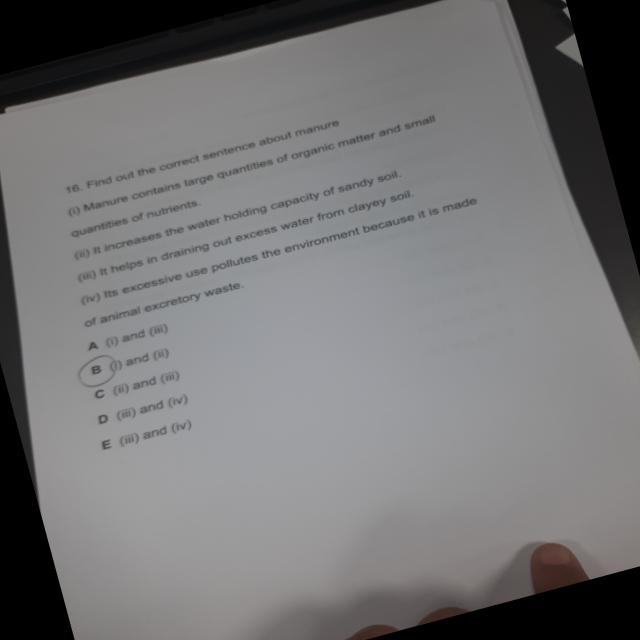B: (71, 351, 125, 394)
